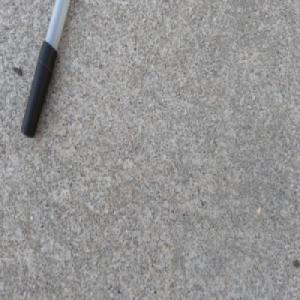Pen: (20, 0, 72, 140)
